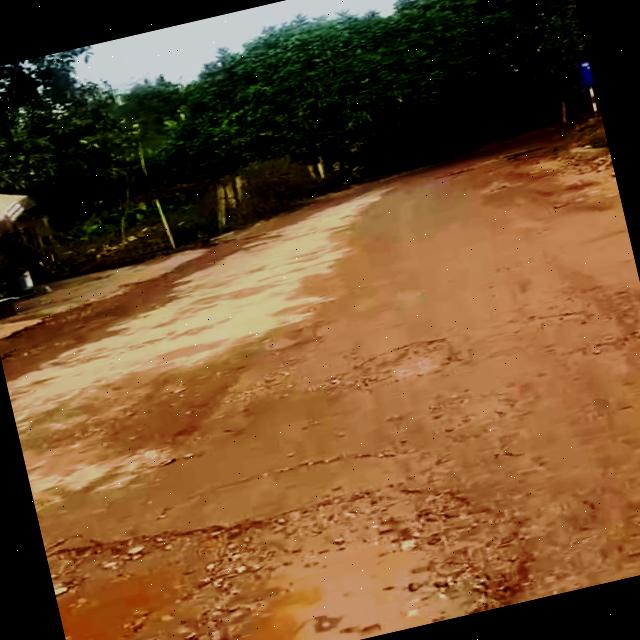pothole: (43, 437, 542, 640), (329, 328, 472, 398)
